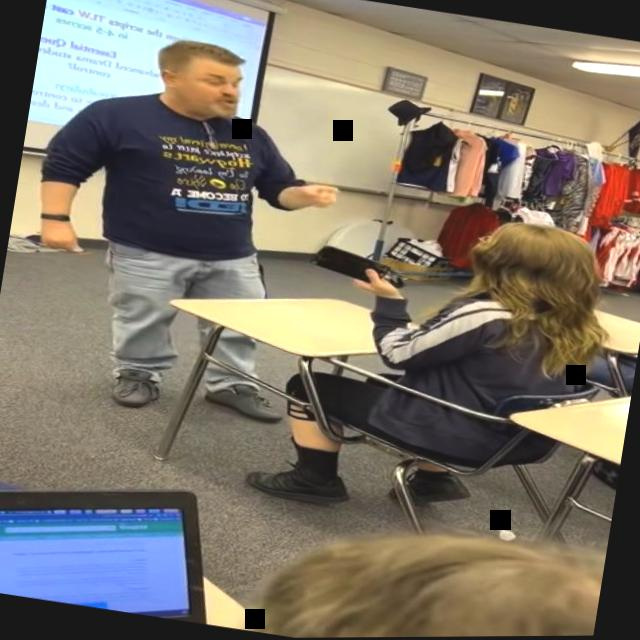NO-Mask: (152, 39, 254, 125)
